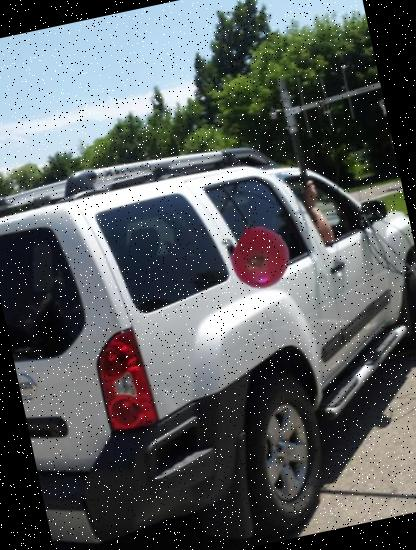Redcurrant: (226, 223, 296, 294)
